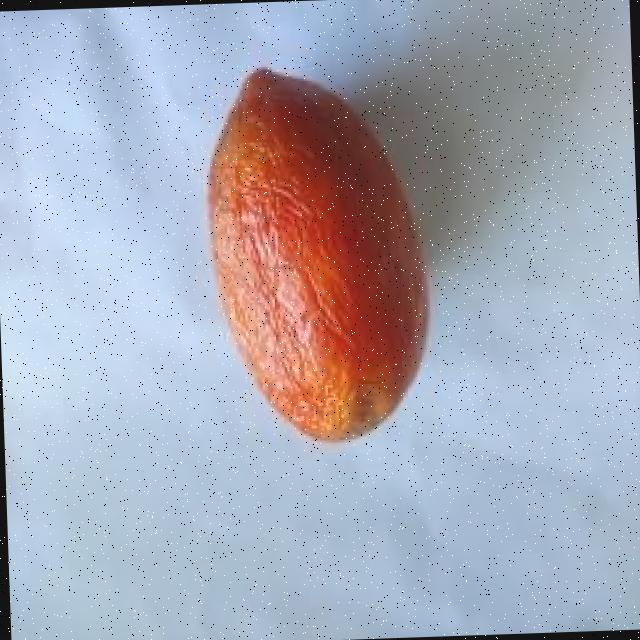overripe: (204, 64, 437, 452)
